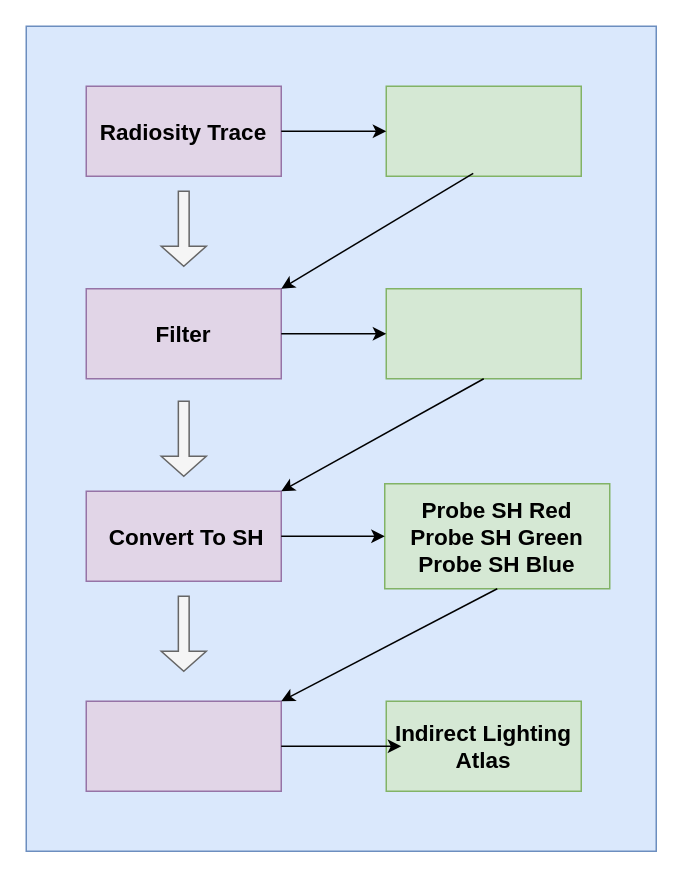
This 683x878 diagram has some shape labels left out. Here are the shapes that lost their labels. From the top down, the box of each, then its label:
(385, 85, 581, 176): Radiance Atlas
(385, 287, 581, 379): Filtered Radiance Atlas
(85, 700, 281, 791): Integrate
